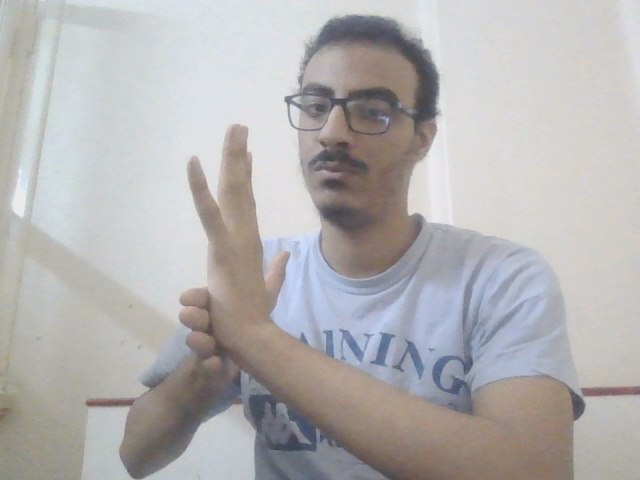Movie: (155, 121, 306, 398)
